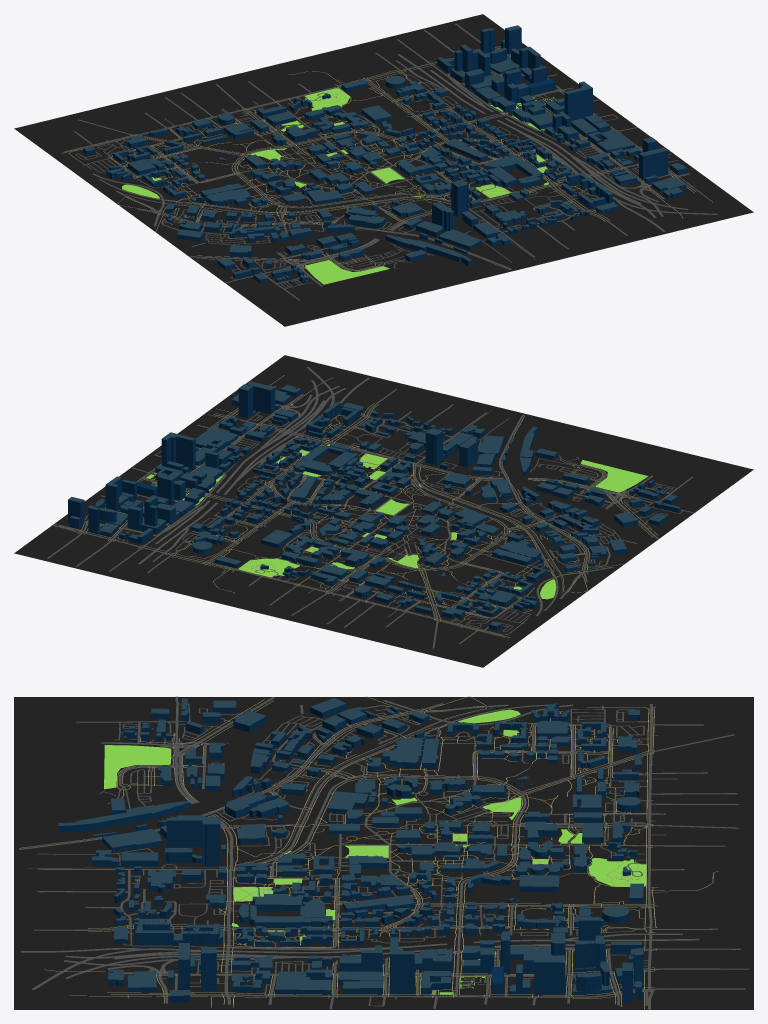
Rendered from City 2.0.glb.
3 views of the same model, one above another, from view 1: azimuth 30°, elevation 25°; view 2: azimuth 150°, elevation 25°; view 3: azimuth 270°, elevation 25° (orthographic). The views are drawn at different scales.
Visible parts, largest first — view 1: Ground - Plane, map_4.osm_buildings, map_4.osm_paths_footway, map_4.osm_roads_service, map_4.osm_roads_residential, map_4.osm_roads_motorway, map_4.osm_roads_tertiary, map_4.osm_vegetation, map_4.osm_roads_secondary, map_4.osm_roads_trunk, map_4.osm_forest, map_4.osm_roads_pedestrian; view 2: Ground - Plane, map_4.osm_buildings, map_4.osm_paths_footway, map_4.osm_roads_service, map_4.osm_roads_residential, map_4.osm_roads_motorway, map_4.osm_vegetation, map_4.osm_roads_tertiary, map_4.osm_roads_secondary, map_4.osm_roads_trunk, map_4.osm_forest, map_4.osm_roads_pedestrian; view 3: Ground - Plane, map_4.osm_buildings, map_4.osm_paths_footway, map_4.osm_roads_service, map_4.osm_roads_residential, map_4.osm_roads_motorway, map_4.osm_vegetation, map_4.osm_roads_tertiary, map_4.osm_roads_secondary, map_4.osm_roads_trunk, map_4.osm_forest, map_4.osm_roads_pedestrian (+1 smaller).
Part boxes in pixels (box(x1,y1,x2,y2)): Ground - Plane: box(14, 14, 753, 326); map_4.osm_buildings: box(83, 25, 686, 283); map_4.osm_paths_footway: box(64, 43, 712, 277); map_4.osm_roads_service: box(75, 65, 695, 288); map_4.osm_roads_residential: box(74, 55, 637, 300); map_4.osm_roads_motorway: box(397, 54, 717, 231); map_4.osm_roads_tertiary: box(78, 39, 696, 257); map_4.osm_vegetation: box(281, 93, 555, 284); map_4.osm_roads_secondary: box(62, 23, 642, 269); map_4.osm_roads_trunk: box(92, 164, 638, 286); map_4.osm_forest: box(122, 88, 349, 198); map_4.osm_roads_pedestrian: box(238, 102, 451, 188); Ground - Plane: box(14, 355, 753, 667); map_4.osm_buildings: box(68, 381, 680, 630); map_4.osm_paths_footway: box(54, 375, 657, 637); map_4.osm_roads_service: box(100, 408, 683, 631); map_4.osm_roads_residential: box(85, 404, 694, 643); map_4.osm_roads_motorway: box(138, 367, 369, 564); map_4.osm_vegetation: box(146, 450, 648, 572); map_4.osm_roads_tertiary: box(109, 386, 558, 648); map_4.osm_roads_secondary: box(47, 415, 588, 637); map_4.osm_roads_trunk: box(213, 414, 658, 616); map_4.osm_forest: box(239, 554, 556, 599); map_4.osm_roads_pedestrian: box(297, 473, 462, 585); Ground - Plane: box(14, 697, 753, 1009); map_4.osm_buildings: box(58, 698, 643, 1003); map_4.osm_paths_footway: box(19, 696, 718, 1009); map_4.osm_roads_service: box(38, 703, 678, 1006); map_4.osm_roads_residential: box(37, 696, 739, 1009); map_4.osm_roads_motorway: box(20, 933, 699, 989); map_4.osm_vegetation: box(104, 745, 640, 995); map_4.osm_roads_tertiary: box(34, 704, 740, 996); map_4.osm_roads_secondary: box(19, 703, 749, 1009); map_4.osm_roads_trunk: box(101, 697, 573, 1004); map_4.osm_forest: box(458, 709, 646, 886); map_4.osm_roads_pedestrian: box(272, 778, 647, 886).
Size of the model in its own units: 2005 by 123 by 2000.
